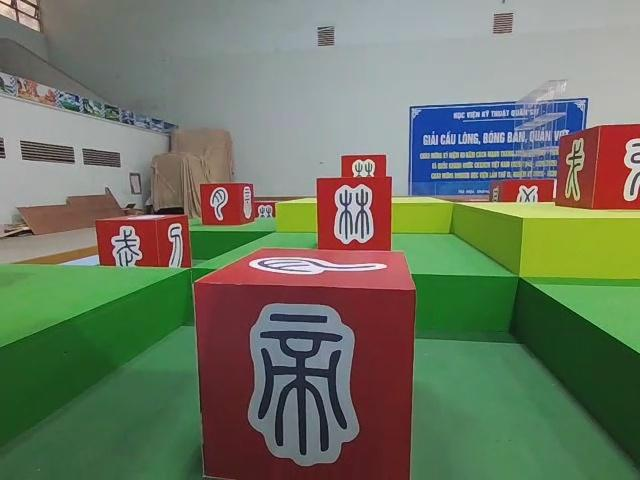R2 Fake: (185, 244, 426, 480), (551, 122, 640, 217), (96, 209, 193, 281), (311, 175, 396, 251), (200, 182, 253, 227)
